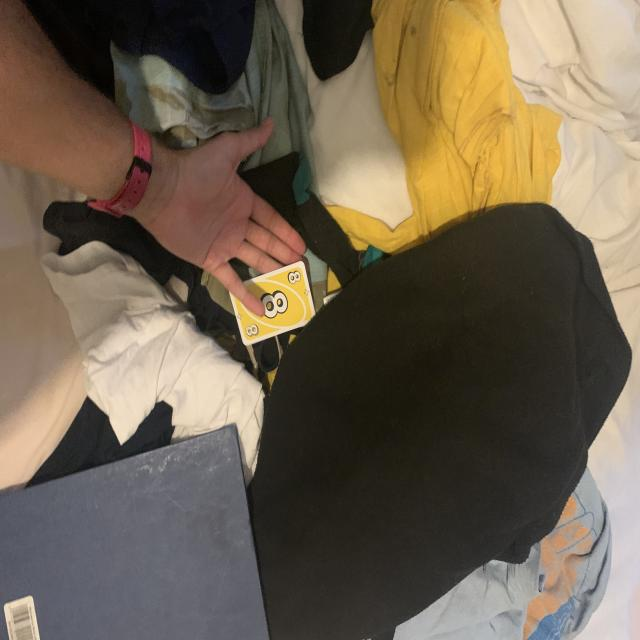lyellow-8: (285, 267, 304, 287)
